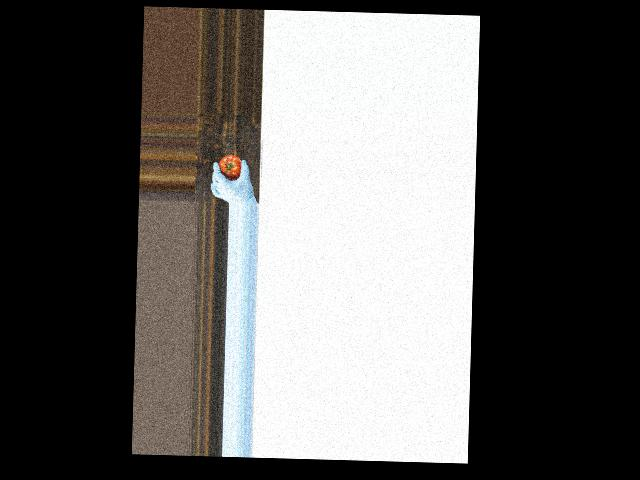tomato: (218, 153, 242, 179)
